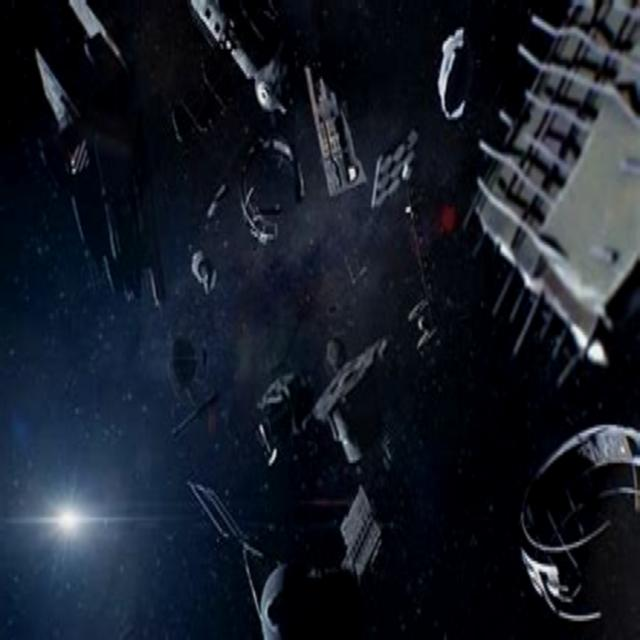large_debris: (440, 0, 640, 422), (16, 0, 181, 336), (475, 343, 640, 637), (277, 293, 413, 590), (234, 0, 376, 259), (163, 463, 313, 640), (363, 114, 446, 374), (135, 285, 223, 451)
